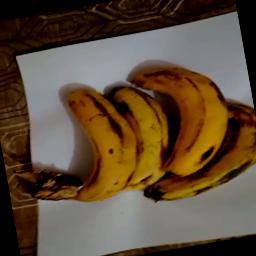Banana Unripe: (125, 39, 256, 212), (98, 58, 182, 209), (52, 78, 144, 207)
